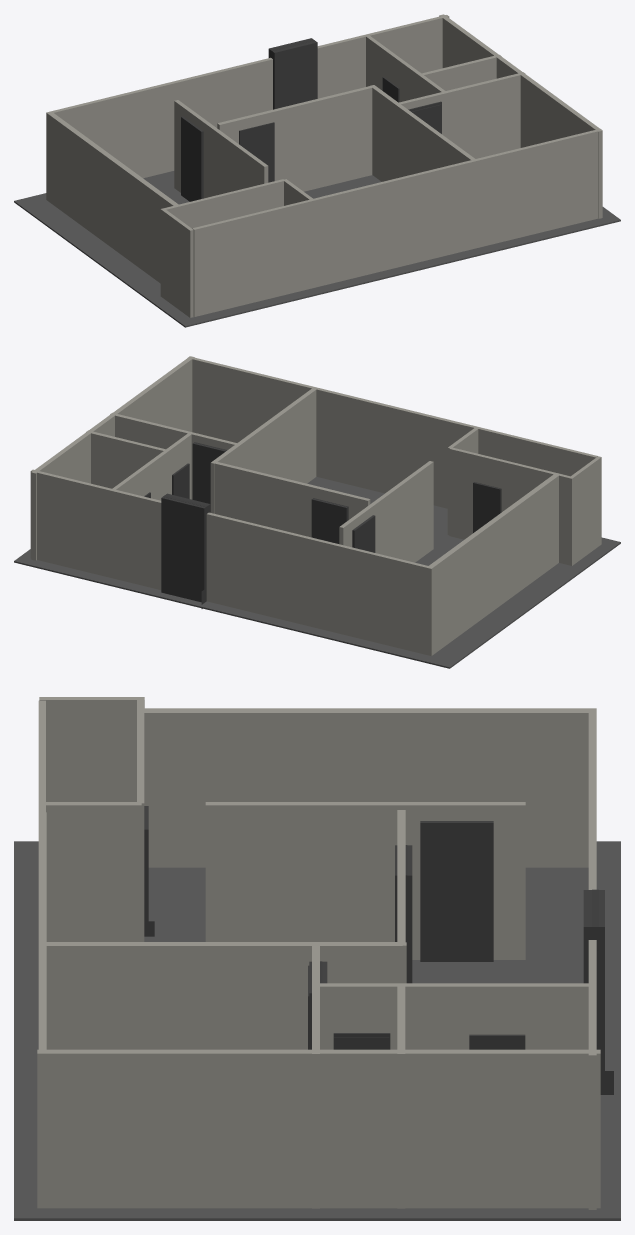
File: no_roof.glb
The picture shows the model from 3 angles, top to bottom: view 1: azimuth 30°, elevation 25°; view 2: azimuth 150°, elevation 25°; view 3: azimuth 270°, elevation 25°; orthographic projection. The views are drawn at different scales.
Visible parts, largest first — view 1: world; view 2: world; view 3: world.
Part boxes in pixels (bbox=[...]): world: bbox=[14, 14, 620, 327]; world: bbox=[14, 356, 620, 668]; world: bbox=[14, 697, 620, 1220].
Size of the model in its own units: 15.68 by 3.41 by 10.67.
1 material, 1 textured.
